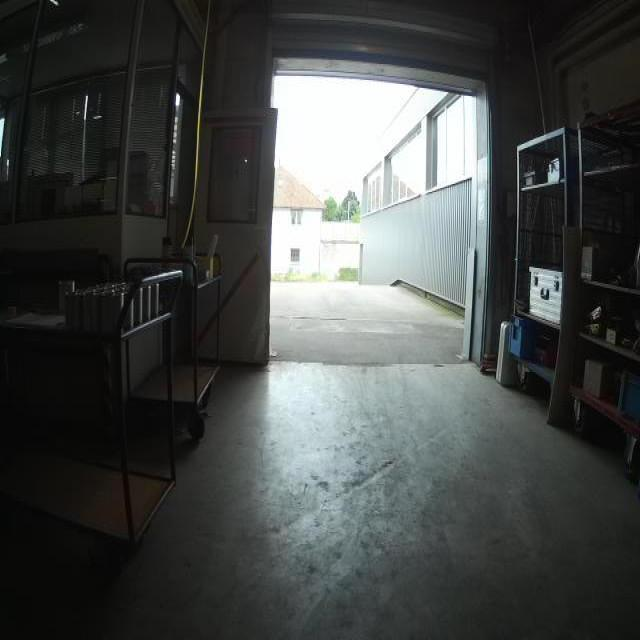small_load_carrier: (621, 369, 638, 421), (508, 313, 529, 354)
